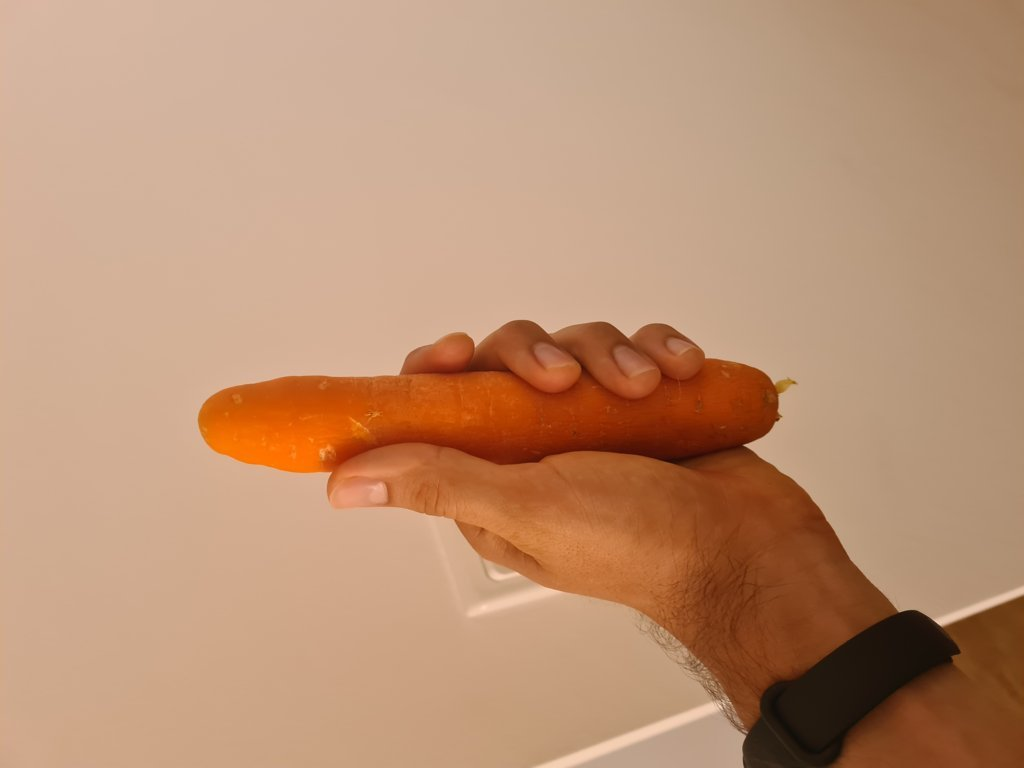carrot: (177, 356, 792, 480)
